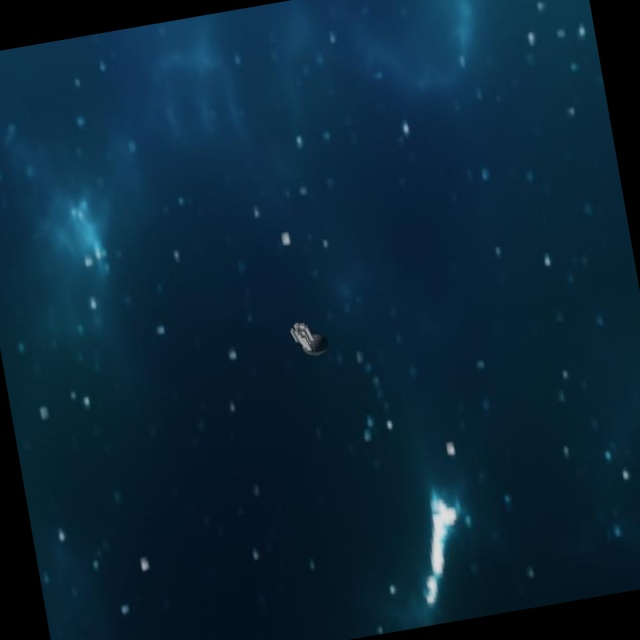large_debris: (284, 311, 331, 366)
